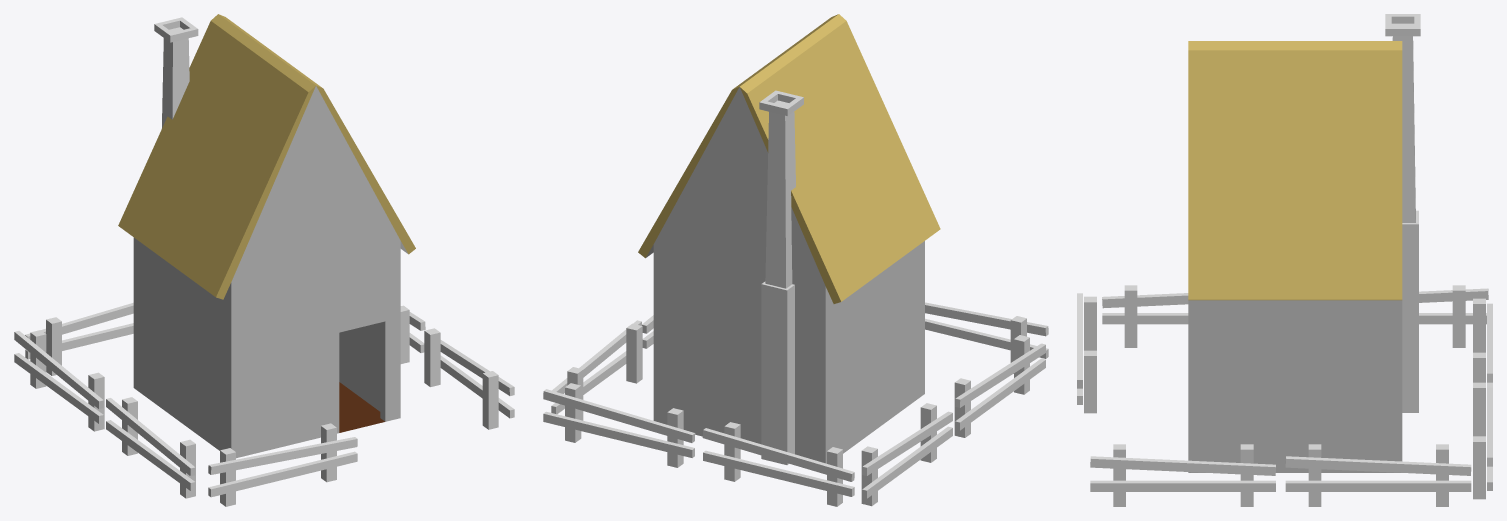
The model's file is WOOD HOUSE.fbx.
3 views of the same model, side by side, from view 1: azimuth 30°, elevation 25°; view 2: azimuth 150°, elevation 25°; view 3: azimuth 270°, elevation 25° (orthographic). The views are drawn at different scales.
Parts seen in each view (by area): view 1: Cube, Cube.003, Cube.011, Cube.029, Cube.009, Cube.001, Cube.016, Cube.022; view 2: Cube, Cube.001, Cube.019, Cube.016, Cube.011, Cube.009, Cube.022, Cube.003; view 3: Cube, Cube.001, Cube.022, Cube.029, Cube.009, Cube.003, Cube.019, Cube.011, Cube.016.
Part boxes in pixels (bbox=[...]): Cube: bbox=[118, 14, 415, 458]; Cube.003: bbox=[208, 423, 357, 506]; Cube.011: bbox=[14, 330, 104, 431]; Cube.029: bbox=[424, 328, 514, 429]; Cube.009: bbox=[106, 397, 195, 498]; Cube.001: bbox=[154, 17, 198, 127]; Cube.016: bbox=[25, 302, 133, 375]; Cube.022: bbox=[400, 305, 425, 363]; Cube: bbox=[638, 14, 940, 463]; Cube.001: bbox=[759, 90, 803, 464]; Cube.019: bbox=[543, 383, 695, 467]; Cube.016: bbox=[702, 422, 854, 506]; Cube.011: bbox=[861, 403, 952, 506]; Cube.009: bbox=[954, 335, 1045, 437]; Cube.022: bbox=[551, 320, 642, 420]; Cube.003: bbox=[925, 302, 1048, 373]; Cube: bbox=[1188, 41, 1402, 472]; Cube.001: bbox=[1385, 14, 1420, 412]; Cube.022: bbox=[1285, 444, 1471, 506]; Cube.029: bbox=[1090, 444, 1275, 506]; Cube.009: bbox=[1102, 285, 1188, 347]; Cube.003: bbox=[1077, 293, 1096, 413]; Cube.019: bbox=[1473, 382, 1492, 499]; Cube.011: bbox=[1419, 285, 1488, 347]; Cube.016: bbox=[1473, 298, 1492, 387].
Bounding box in the file's own units: 188 × 200 × 194.
